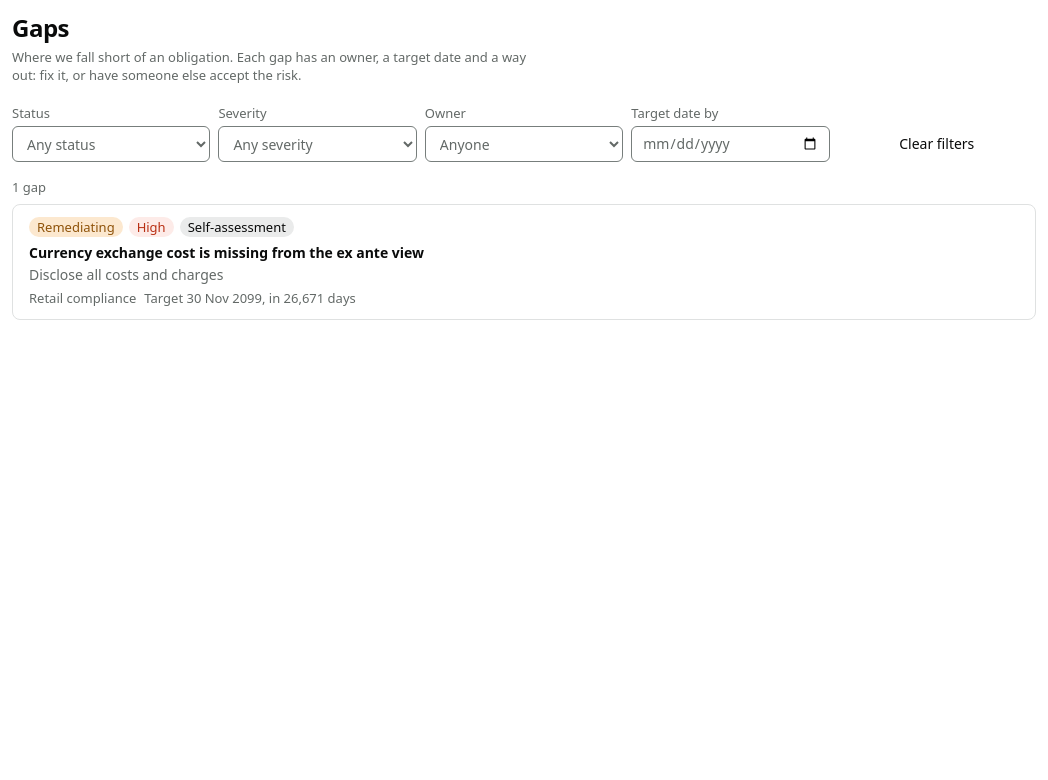
the way out › tells a reader who owns the work, with no buttons
The image size is (1048, 780).
Click the button "Currency exchange cost is missing from the ex ante view": point(227, 253) [29, 243, 424, 263]
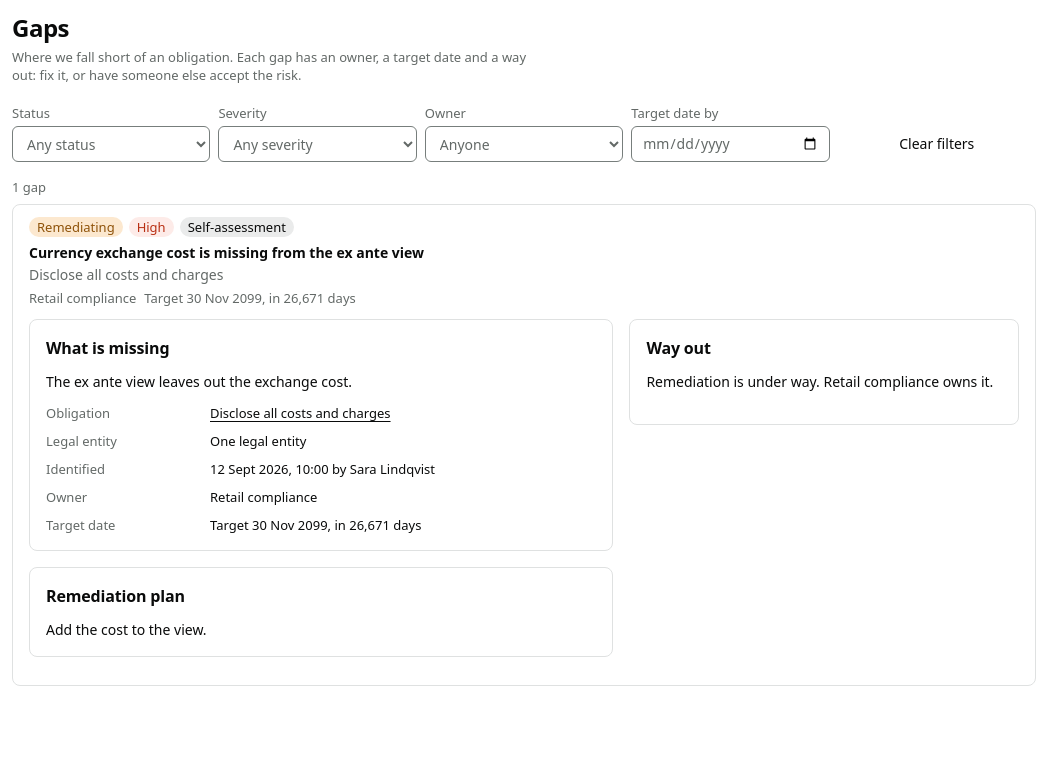
Expected: the element that starts with "What is missing" is shown, [29, 319, 1019, 673]
Expected: the text "Remediation is under way. Retail compliance owns it." is shown, [646, 372, 993, 392]
